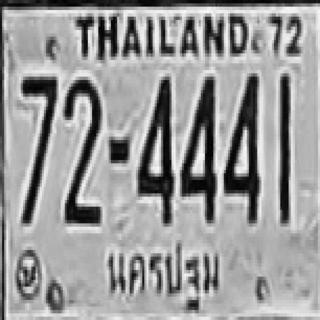N01: (277, 72, 290, 222)
N02: (62, 77, 99, 223)
N04: (222, 70, 259, 220), (137, 73, 172, 223), (180, 73, 215, 220)
N07: (19, 73, 57, 223), (20, 75, 56, 178)
P28: (103, 235, 223, 316)
